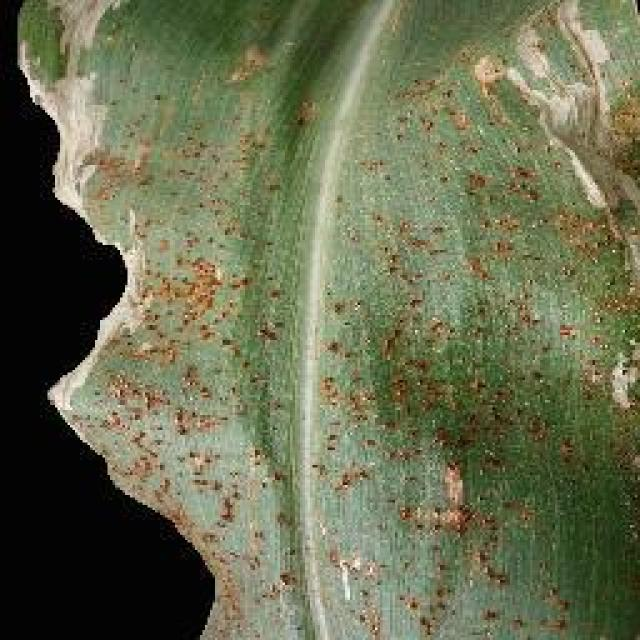Corn Common Rust: (85, 52, 640, 640)
